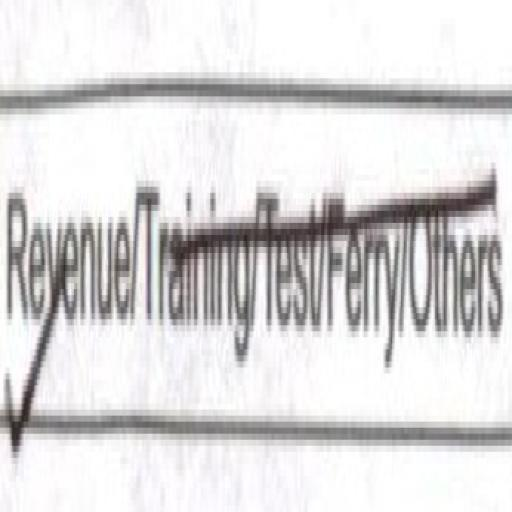check: (0, 36, 130, 512)
